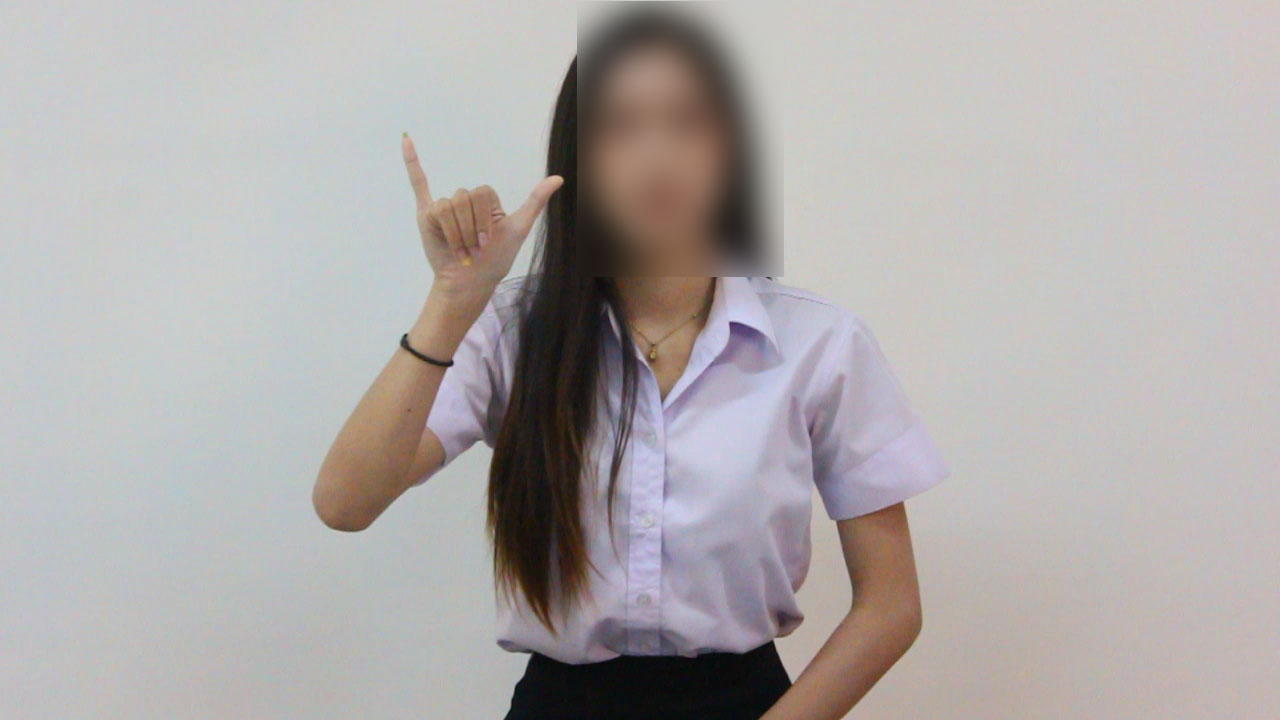yor: (384, 123, 573, 309)
